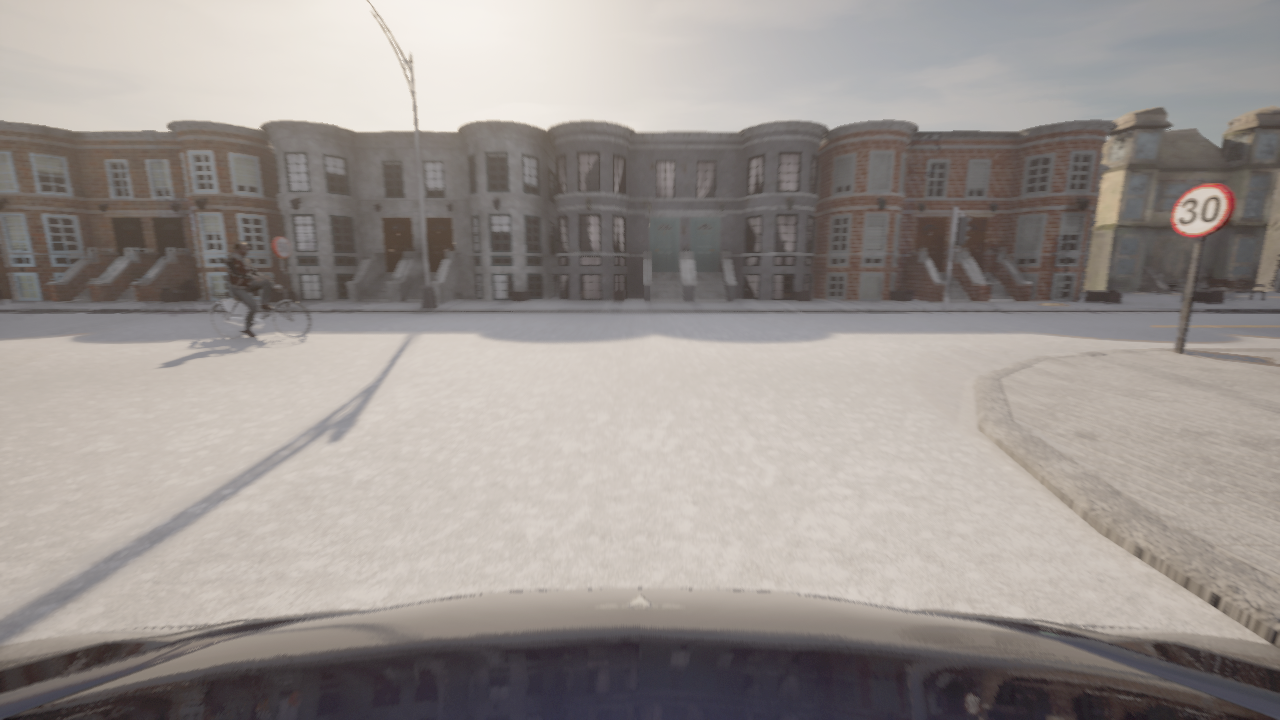cyclist: (0, 588, 1279, 719), (209, 277, 310, 337)
